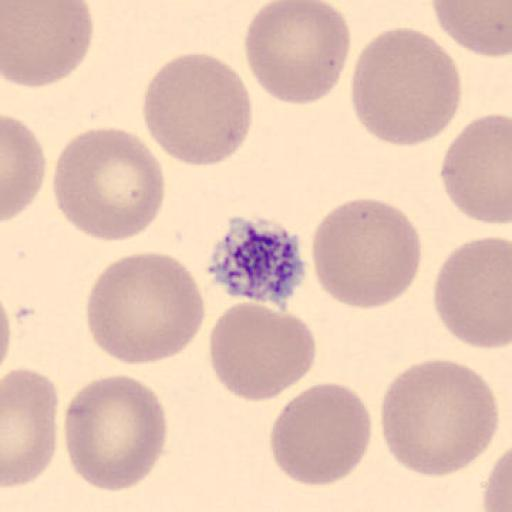Platelet: (205, 214, 310, 306)
RBC: (379, 357, 500, 478), (348, 25, 464, 148), (85, 250, 207, 366), (51, 126, 167, 244), (141, 51, 253, 169), (61, 372, 168, 494), (309, 196, 423, 310), (242, 0, 352, 106), (208, 300, 317, 404), (268, 380, 372, 487), (432, 234, 512, 351), (2, 0, 95, 89), (439, 114, 512, 225), (2, 367, 58, 488), (1, 114, 47, 222), (431, 0, 512, 59), (480, 444, 512, 511), (0, 292, 13, 374)
